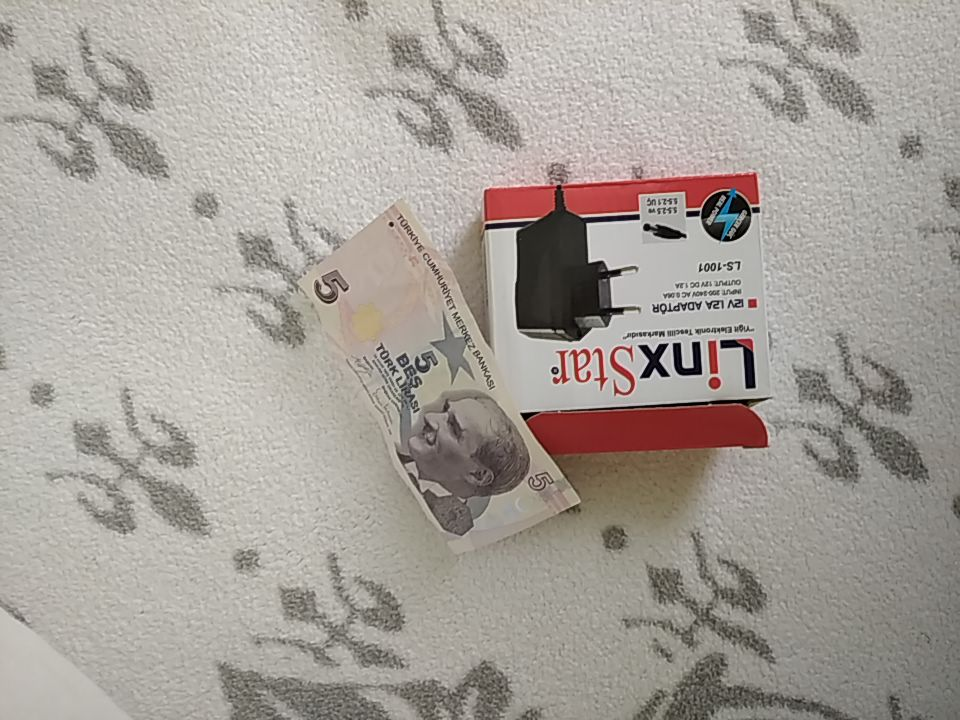5TL: (297, 199, 582, 557)
